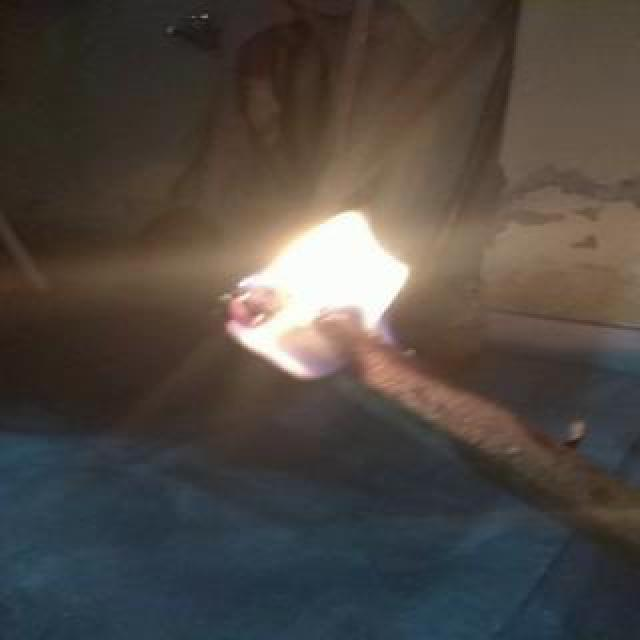Fire: (208, 200, 452, 378)
